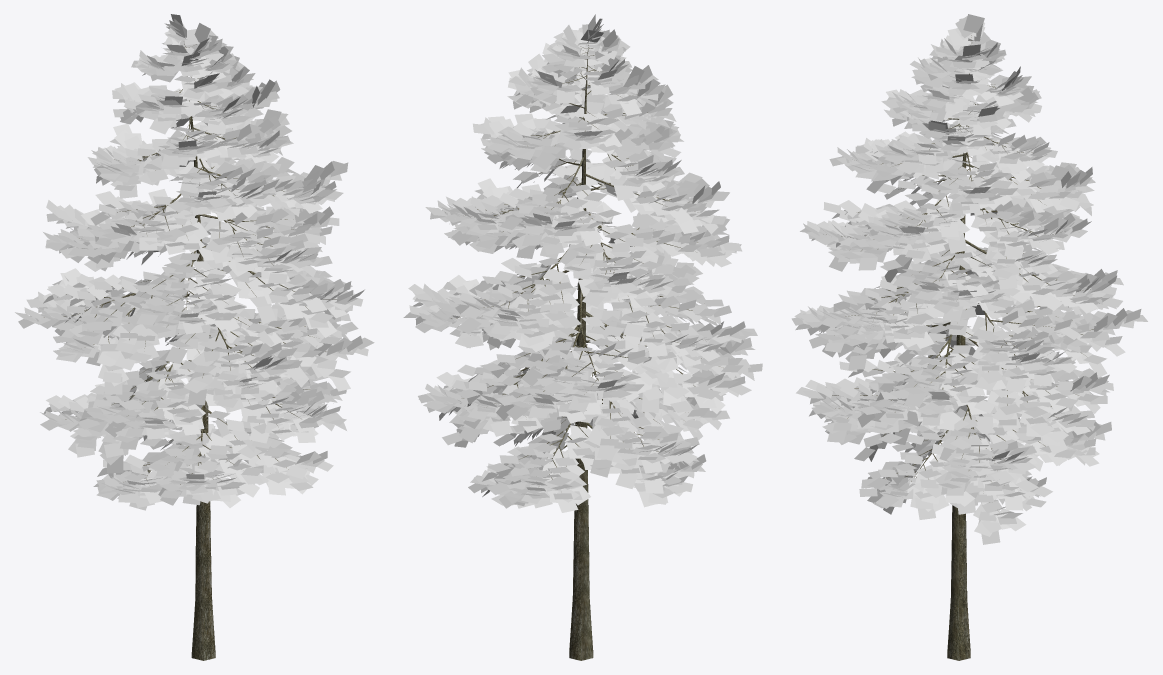
Rendered from Tree_lowpoly.glb.
3 views of the same model, side by side, from view 1: azimuth 30°, elevation 25°; view 2: azimuth 150°, elevation 25°; view 3: azimuth 270°, elevation 25° (orthographic). The views are drawn at different scales.
Parts seen in each view (by area): view 1: 24K; view 2: 24K; view 3: 24K.
Part boxes in pixels (bbox=[...]): 24K: bbox=[15, 14, 374, 660]; 24K: bbox=[403, 14, 762, 660]; 24K: bbox=[791, 14, 1147, 660].
Bounding box in the file's own units: 8.49 × 17.19 × 8.8.
2 materials, 1 textured.
